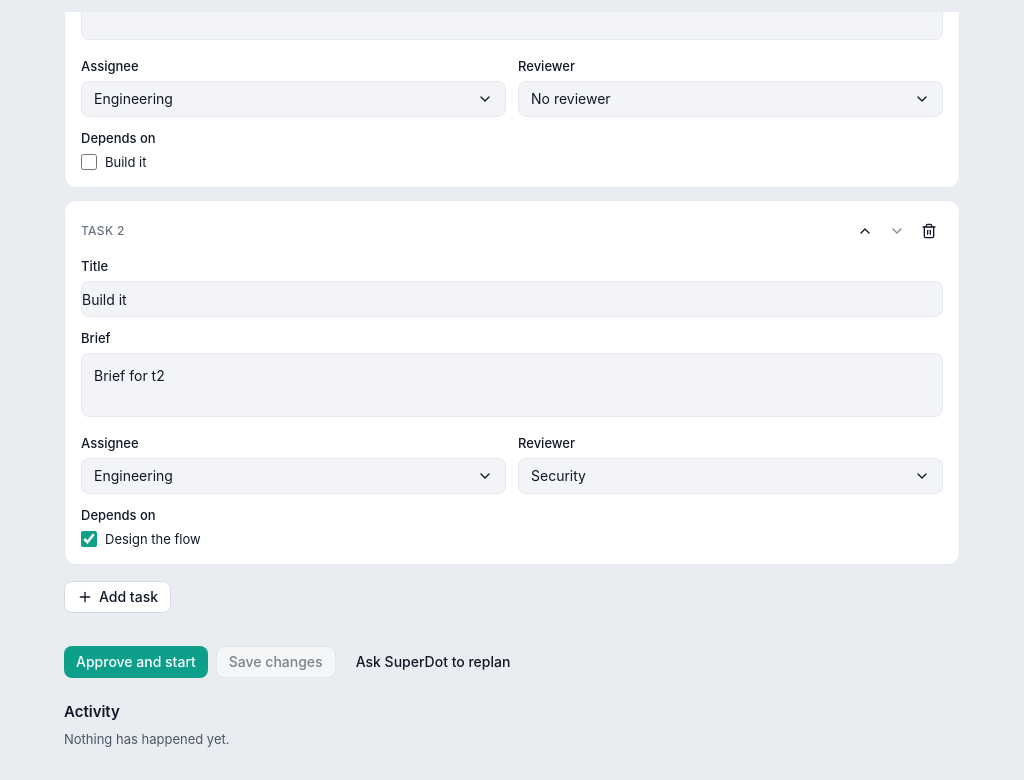
Test case: plan editor › shows a failed save as a message, not a crash
The image size is (1024, 780).
(page scrolled)
Click the button "Approve and start" at (136, 662), box [64,646,208,678]
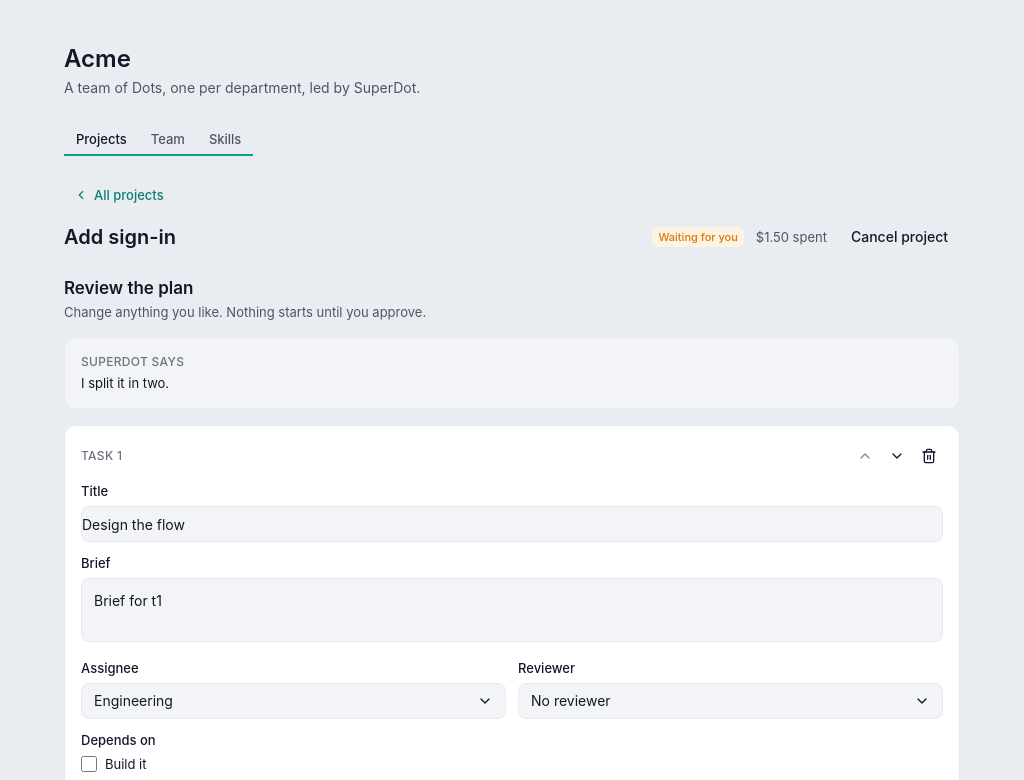
Result: the heading "Review the plan" is shown at [64,278,193,298]
